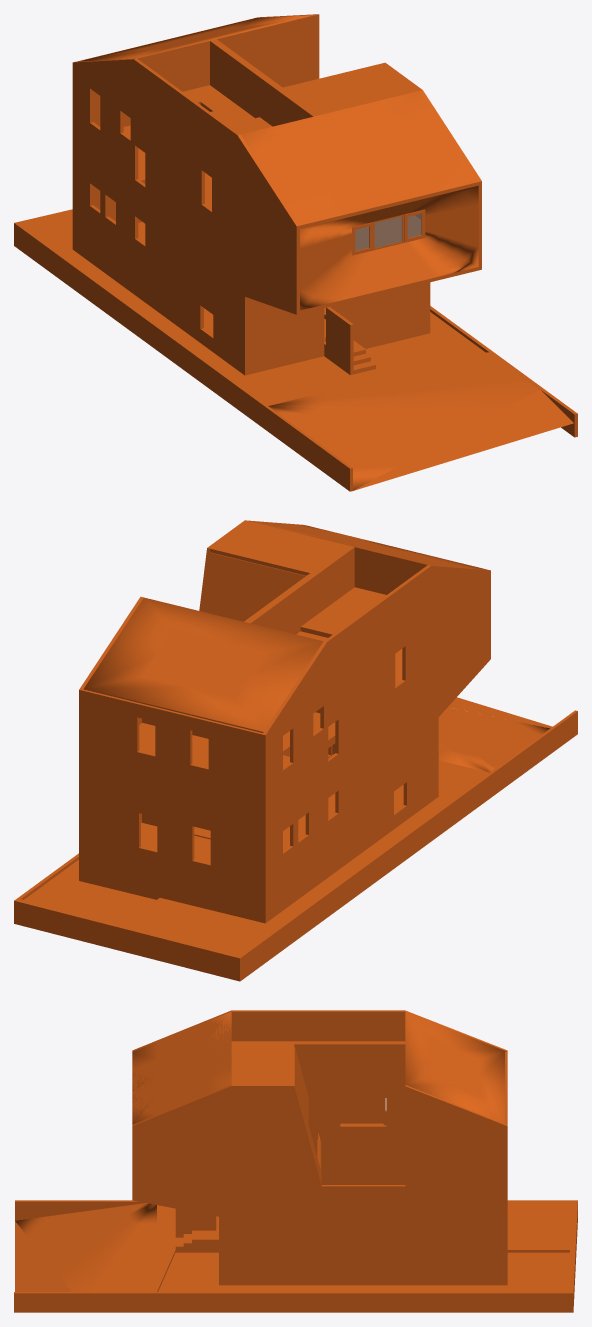
The model's file is asset.glb.
The picture shows the model from 3 angles, top to bottom: view 1: azimuth 30°, elevation 25°; view 2: azimuth 150°, elevation 25°; view 3: azimuth 270°, elevation 25°; orthographic projection. The views are drawn at different scales.
Visible parts, largest first — view 1: Sketchup, G-__555564; view 2: Sketchup; view 3: Sketchup.
Part boxes in pixels (x1,y1,x2,y2): Sketchup: (14, 14, 577, 491); G-__555564: (352, 209, 425, 255); Sketchup: (14, 520, 577, 981); Sketchup: (14, 1010, 577, 1312).
Size of the model in its own units: 8.07 by 8.75 by 20.69.
